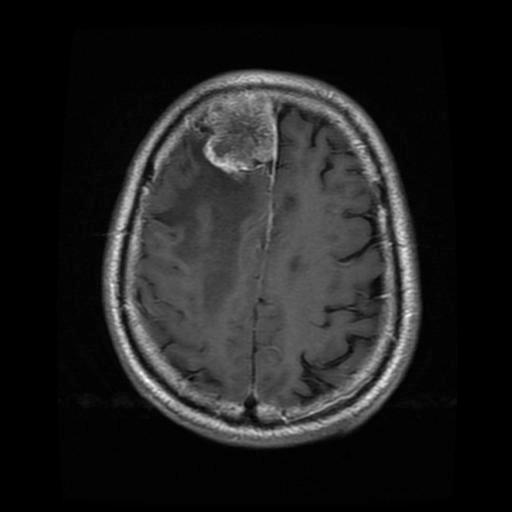Tumour-Meningioma: (190, 94, 293, 186)
